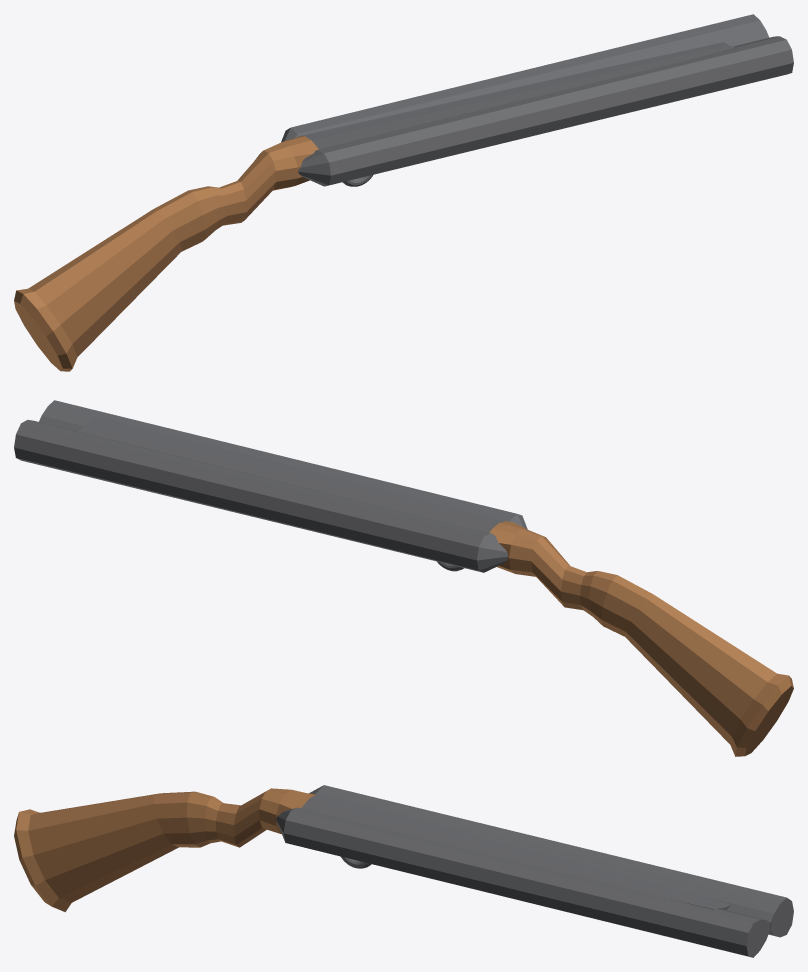
File: ShotGun.fbx
3 renders of one model, top to bottom at view 1: azimuth 30°, elevation 25°; view 2: azimuth 150°, elevation 25°; view 3: azimuth 330°, elevation 25°, orthographic.
Visible parts, largest first — view 1: ShotGun; view 2: ShotGun; view 3: ShotGun.
Part boxes in pixels (x1,y1,x2,y2): ShotGun: [14, 14, 793, 371]; ShotGun: [14, 400, 793, 756]; ShotGun: [14, 785, 793, 957].
Size of the model in its own units: 887 by 194 by 96.91.
